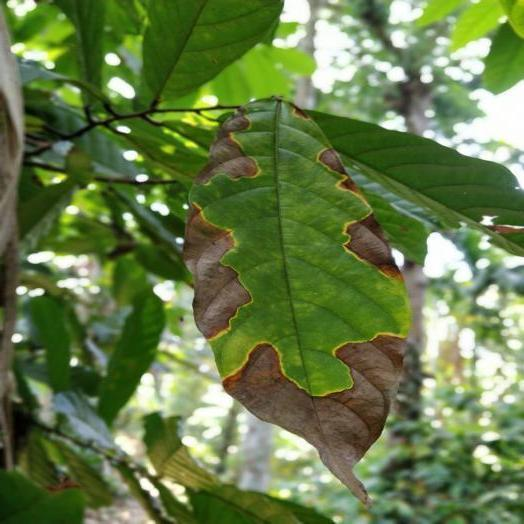Potassium: (184, 98, 408, 502)
